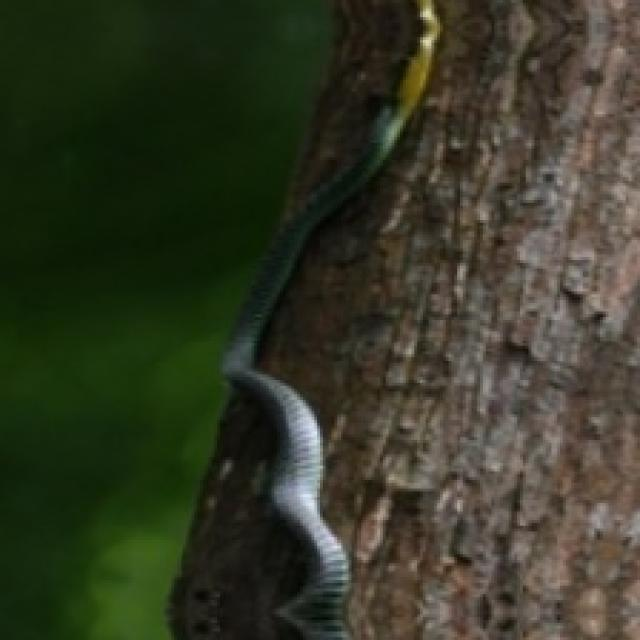paradise tree snake: (171, 0, 437, 637)
